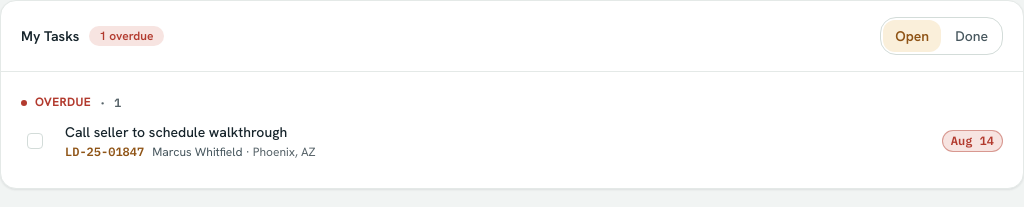
TSK-07/TSK-10: due-date grouping (overdue/today/upcoming/no-date) › a completed task is never re-grouped by due date (Done tab renders a flat list)
The image size is (1024, 207).
Expected: the text "Call seller to schedule walkthrough" is shown, [65,123,287,141]
Click the button "Done".
click(972, 36)  # box [943,20,1000,52]
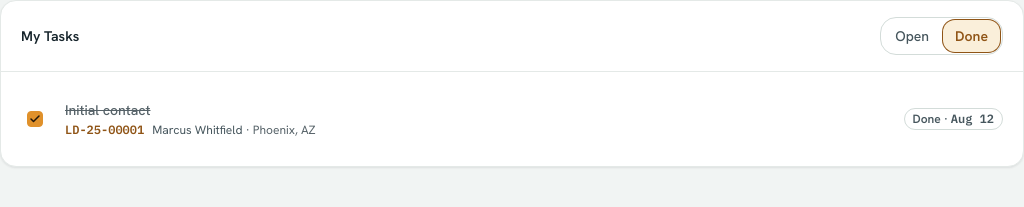
Expected: the text "Initial contact" is shown, [65,101,150,119]
Expected: the heading "Overdue · 1" is gone
